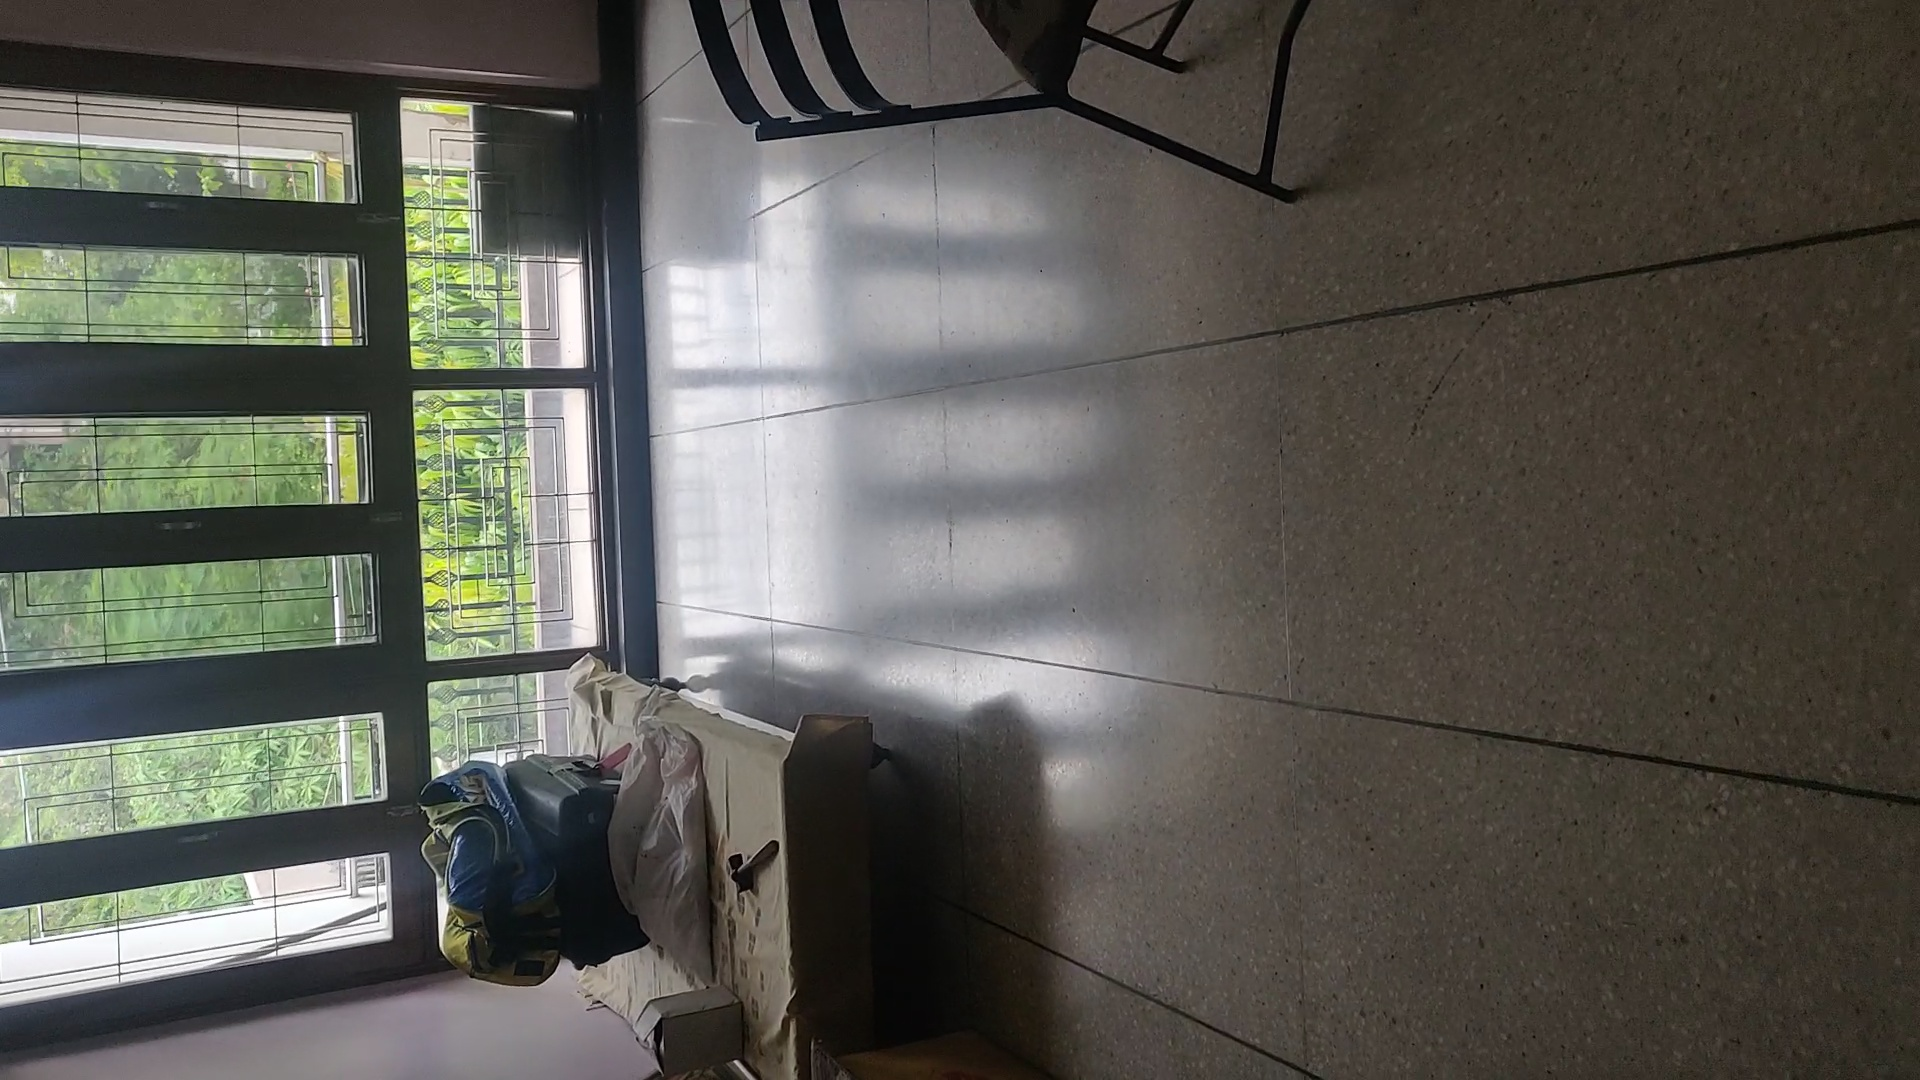hammer: (727, 837, 781, 898)
